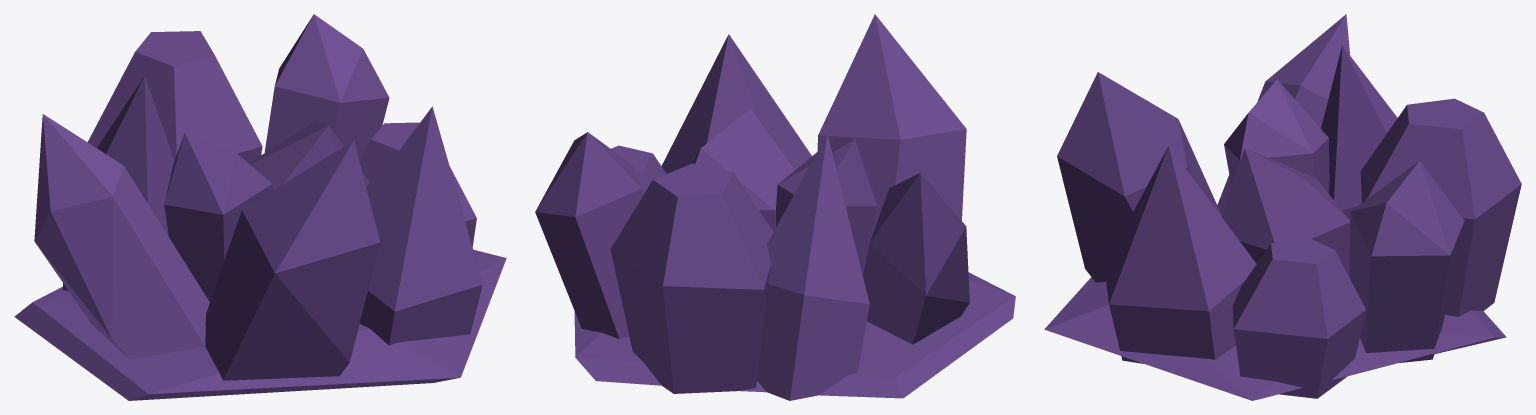
Rendered from CrystalPileBag.fbx.
The picture shows the model from 3 angles, left to right: view 1: azimuth 30°, elevation 25°; view 2: azimuth 150°, elevation 25°; view 3: azimuth 270°, elevation 25°; orthographic projection. The views are drawn at different scales.
Visible parts, largest first — view 1: CrystalPileBag; view 2: CrystalPileBag; view 3: CrystalPileBag.
Boxes of the visible parts, x1,y1,x2,y2 form: CrystalPileBag: [14, 14, 506, 400]; CrystalPileBag: [535, 14, 1015, 400]; CrystalPileBag: [1044, 14, 1521, 400].
Size of the model in its own units: 34.01 by 18.33 by 34.4.
